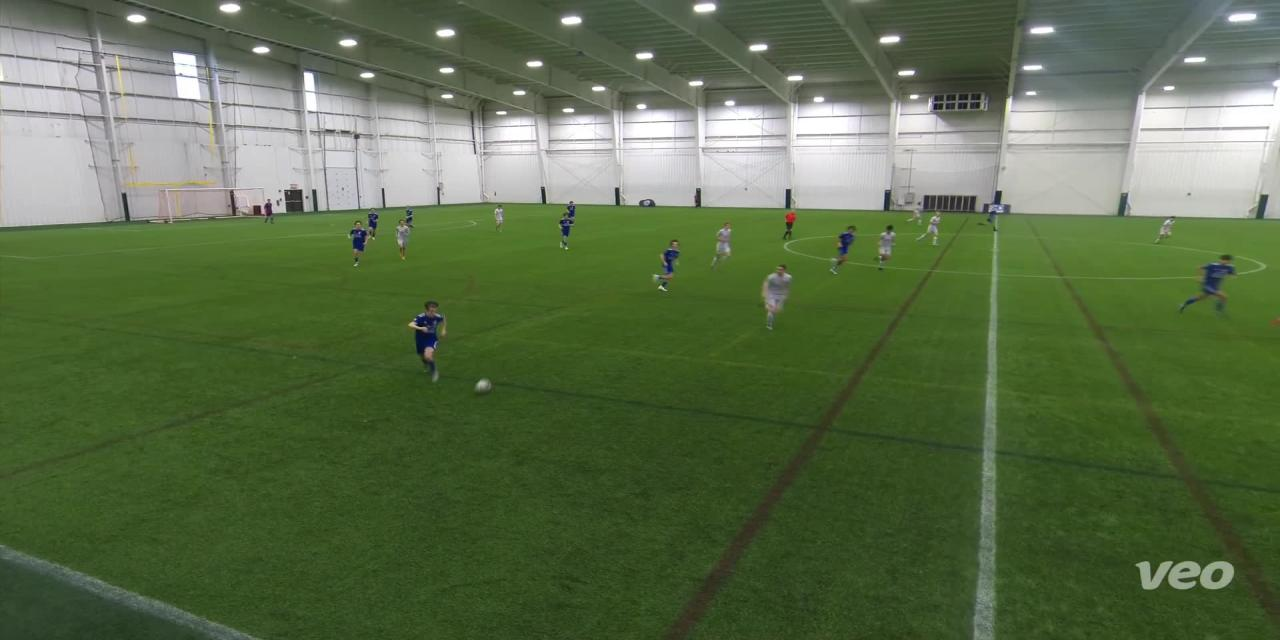goal: (149, 186, 283, 224)
sports ball: (470, 374, 496, 402)
